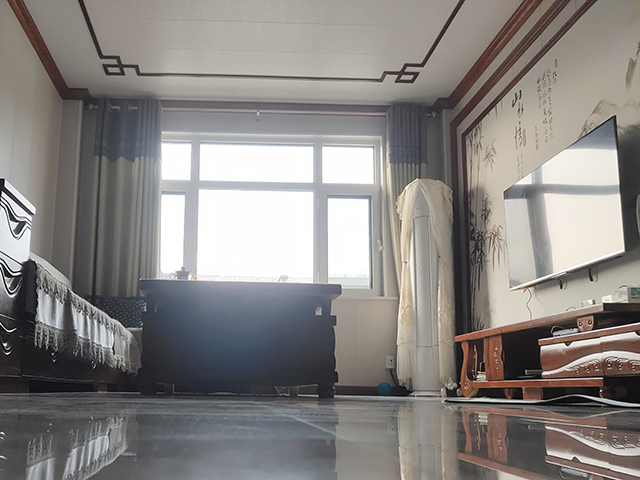cabinet: (450, 301, 640, 401)
carpet: (442, 392, 640, 409)
curtain: (90, 95, 156, 296), (381, 98, 431, 292)
sofa: (1, 176, 147, 394)
table: (137, 277, 344, 400)
wire: (388, 367, 408, 396)
